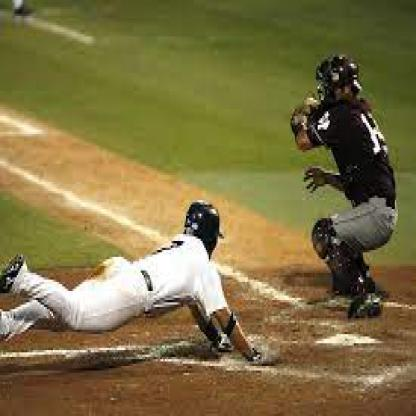Fall_Down: (0, 196, 275, 370)
